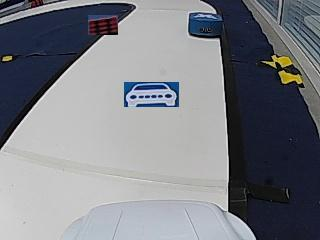prop: (188, 11, 222, 39)
